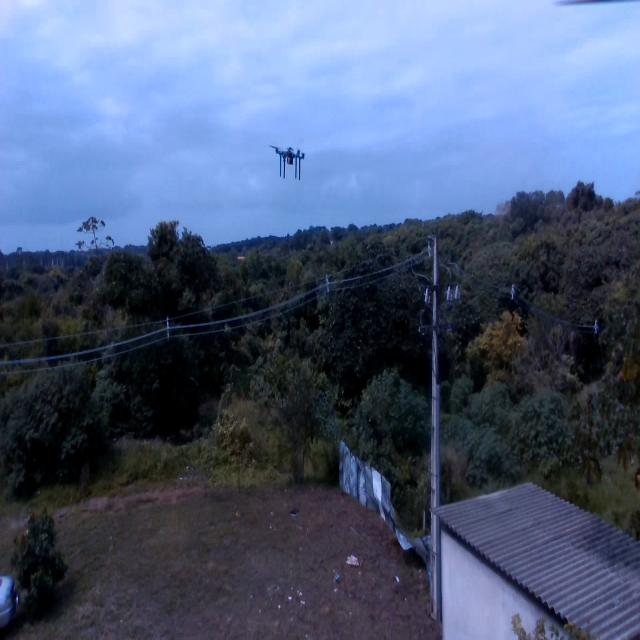-uav-: (268, 130, 310, 190)
